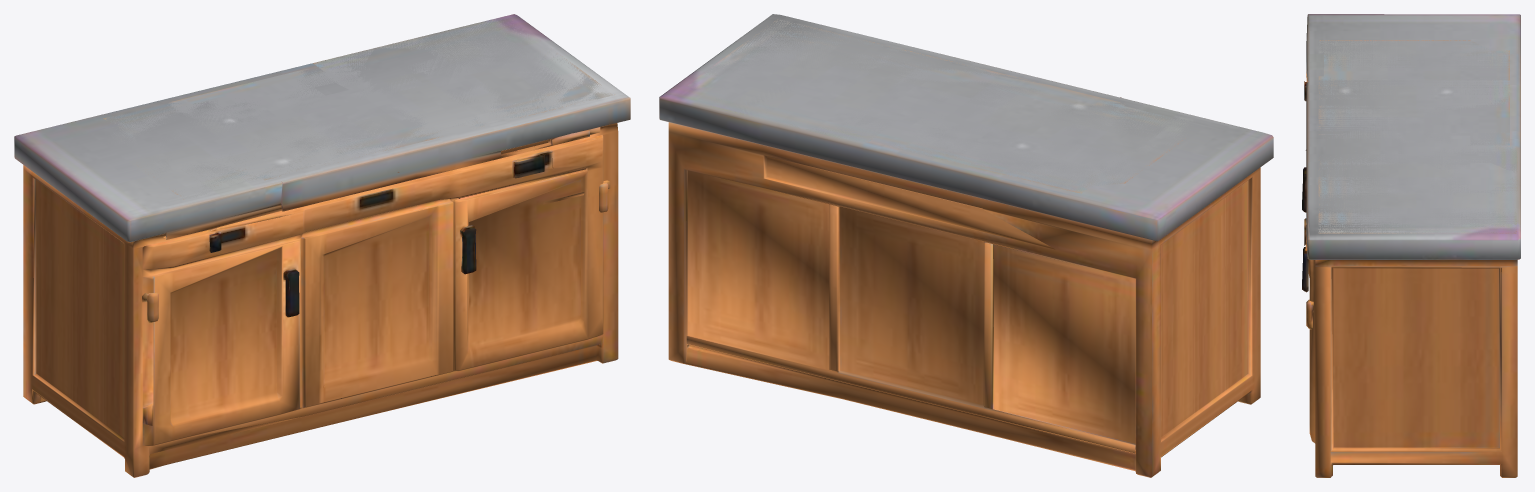
File: counter.glb
3 renders of one model, left to right at view 1: azimuth 30°, elevation 25°; view 2: azimuth 150°, elevation 25°; view 3: azimuth 270°, elevation 25°, orthographic. The views are drawn at different scales.
Bounding box in the file's own units: 1.91 × 0.9589 × 0.7789.
Materials: 1 (1 with a texture image).
